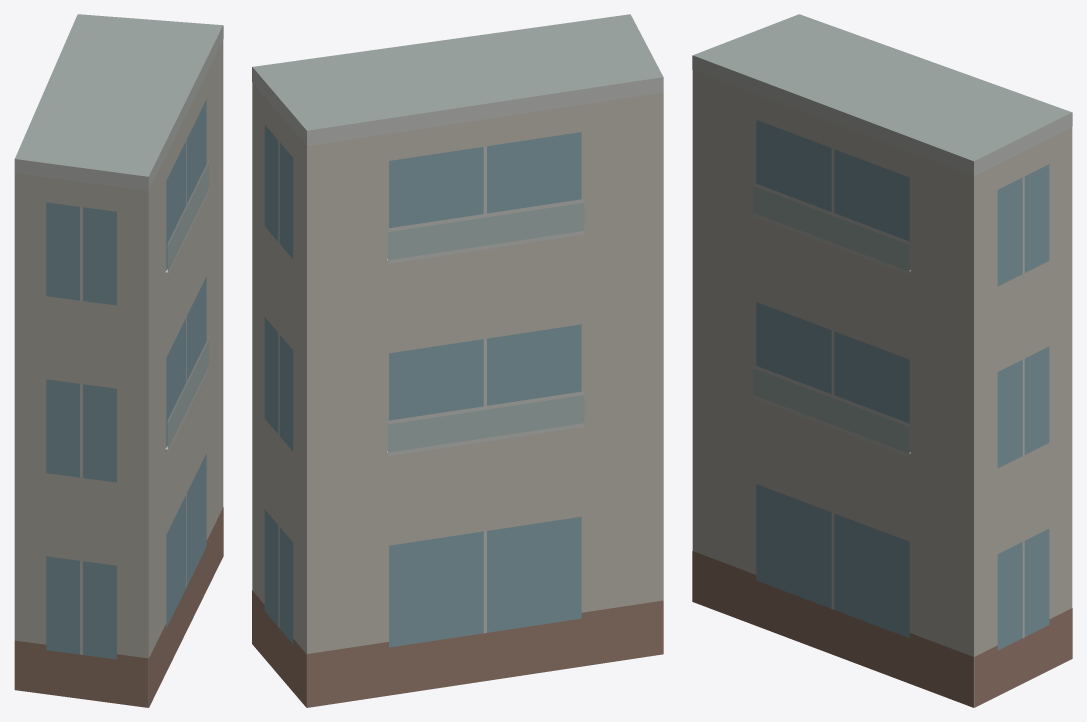
File: survey-upis-32477109.glb
The picture shows the model from 3 angles, left to right: view 1: azimuth 30°, elevation 25°; view 2: azimuth 150°, elevation 25°; view 3: azimuth 270°, elevation 25°; orthographic projection. The views are drawn at different scales.
Parts seen in each view (by area): view 1: survey-upis-32477109.tmp; view 2: survey-upis-32477109.tmp; view 3: survey-upis-32477109.tmp.
Part boxes in pixels (x1=…): survey-upis-32477109.tmp: x1=14, y1=14, x2=223, y2=707; survey-upis-32477109.tmp: x1=252, y1=14, x2=663, y2=707; survey-upis-32477109.tmp: x1=692, y1=14, x2=1072, y2=707.
Bounding box in the file's own units: 5.3 × 9.15 × 5.77.
